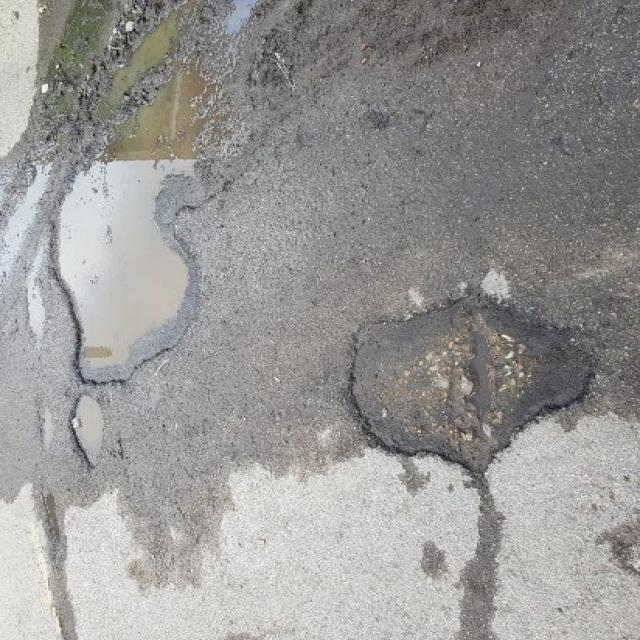Pothole: (48, 63, 266, 387), (338, 287, 599, 485), (62, 391, 121, 471)
